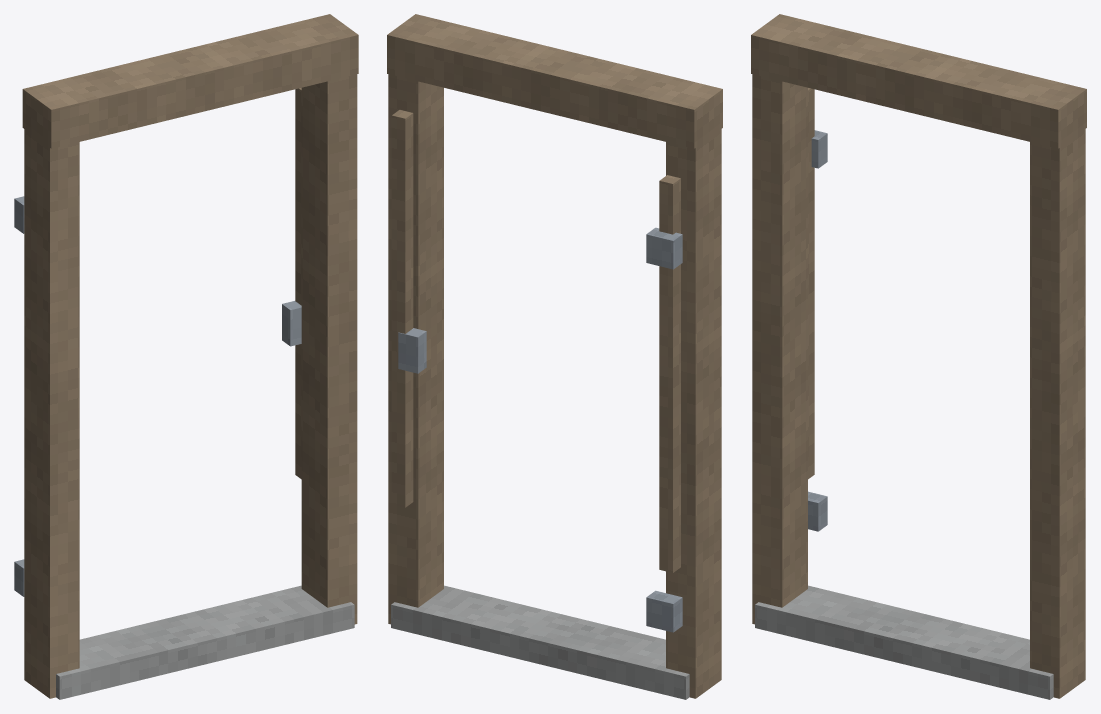
Rendered from level_blockout_doorway.glb.
3 renders of one model, left to right at view 1: azimuth 30°, elevation 25°; view 2: azimuth 150°, elevation 25°; view 3: azimuth 330°, elevation 25°, orthographic.
Parts seen in each view (by area): view 1: level_blockout_doorway; view 2: level_blockout_doorway; view 3: level_blockout_doorway.
Boxes of the visible parts, x1=… form: level_blockout_doorway: x1=14, y1=14, x2=358, y2=699; level_blockout_doorway: x1=387, y1=14, x2=722, y2=699; level_blockout_doorway: x1=751, y1=14, x2=1086, y2=699.
Bounding box in the file's own units: 1.24 × 2.28 × 0.3175.
Materials: 3 (3 with a texture image).
